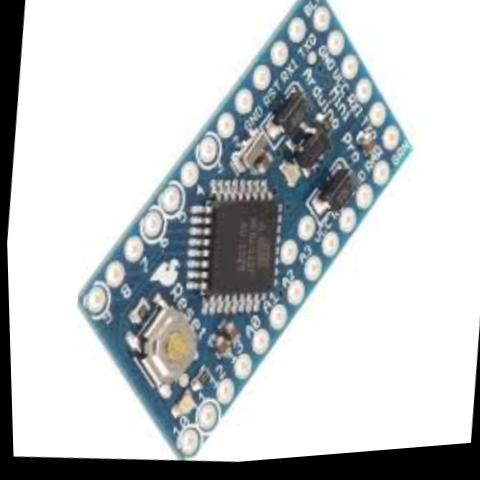Arduino-Pro-Mini: (51, 0, 440, 477)
